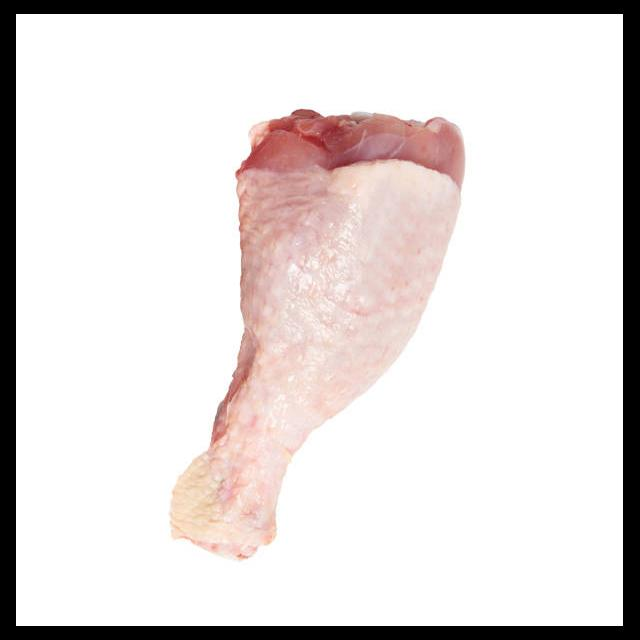chicken: (168, 107, 470, 563)
